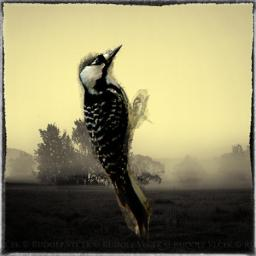Woodpecker: (69, 38, 167, 252)
